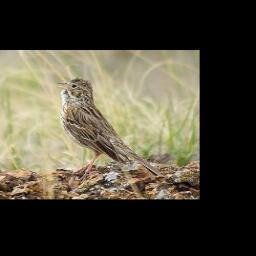Sparrow: (50, 73, 168, 185)
